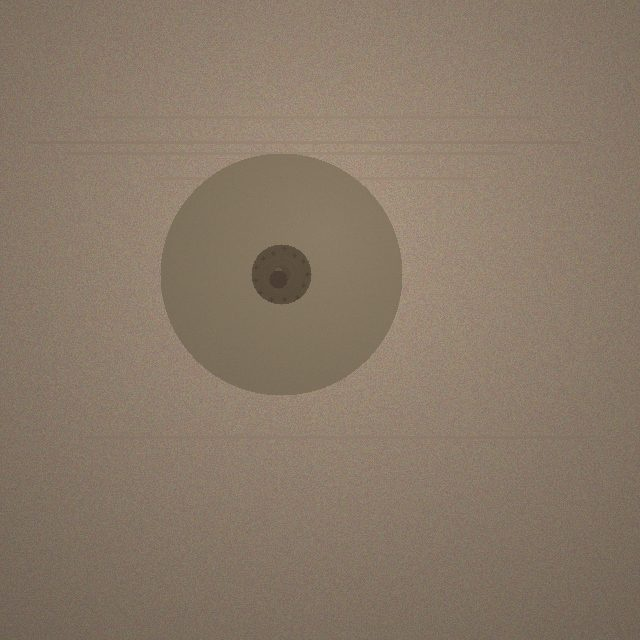cold_weld: (160, 153, 402, 395)
